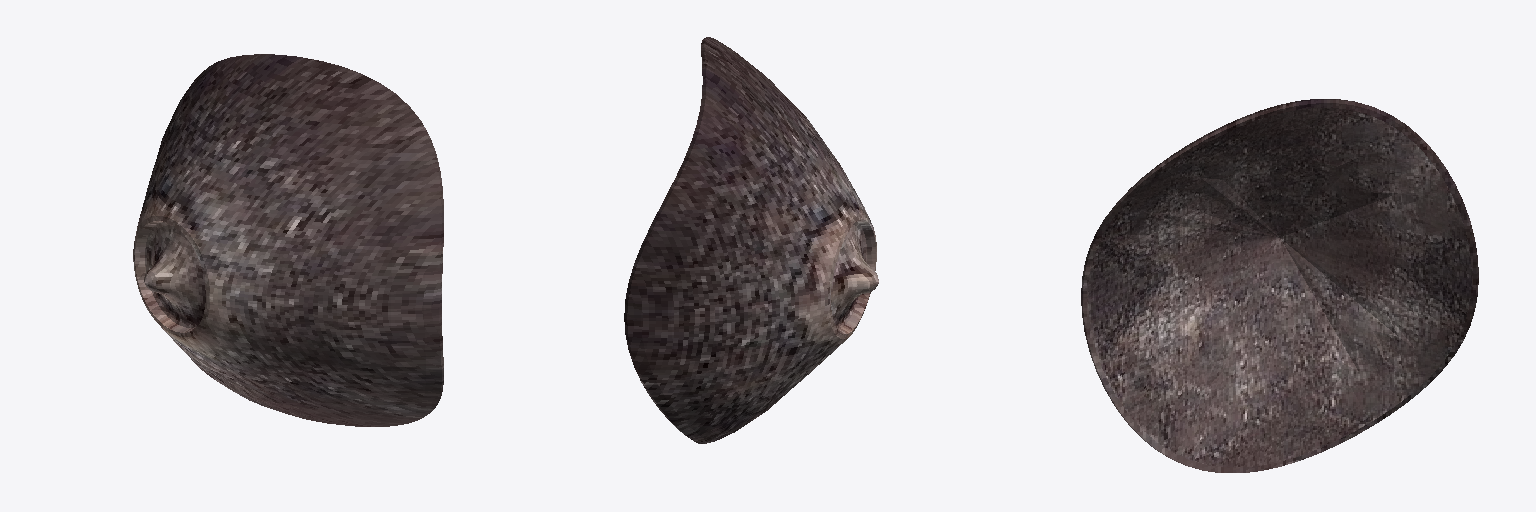
3 views of the same model, side by side, from view 1: azimuth 30°, elevation 25°; view 2: azimuth 150°, elevation 25°; view 3: azimuth 270°, elevation 25° (orthographic).
Parts seen in each view (by area): view 1: LemonFruitPeduncle; view 2: LemonFruitPeduncle; view 3: LemonFruitPeduncle.
Boxes of the visible parts, <box> form: LemonFruitPeduncle: <box>133,54,443,426</box>; LemonFruitPeduncle: <box>624,37,878,443</box>; LemonFruitPeduncle: <box>1081,99,1478,472</box>.
Bounding box in the file's own units: 0.0037 × 0.0058 × 0.0058.
Materials: 1 (1 with a texture image).